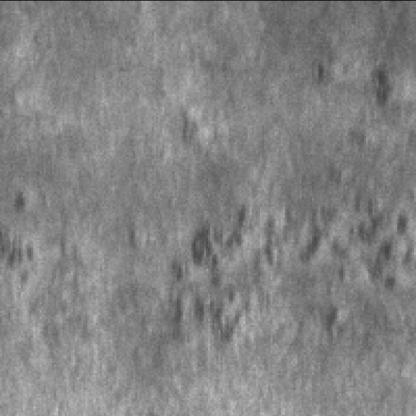rolled-in_scale: (154, 150, 293, 337), (298, 120, 416, 326), (308, 2, 412, 106), (4, 183, 81, 287)
